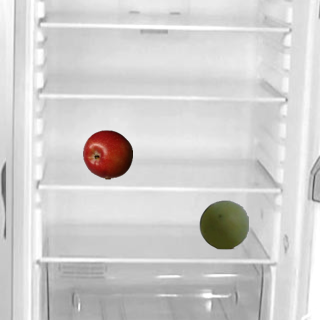Apple Braeburn: (82, 129, 132, 179)
Grape White 4: (198, 199, 248, 249)
